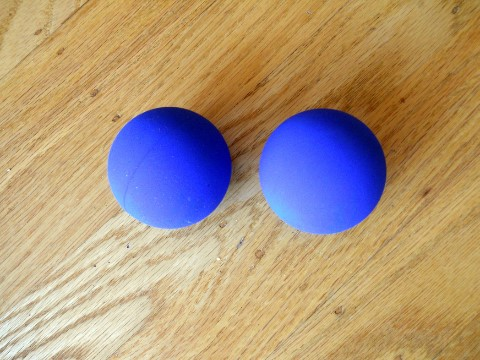blue ball: (258, 108, 387, 234), (106, 106, 233, 229)
